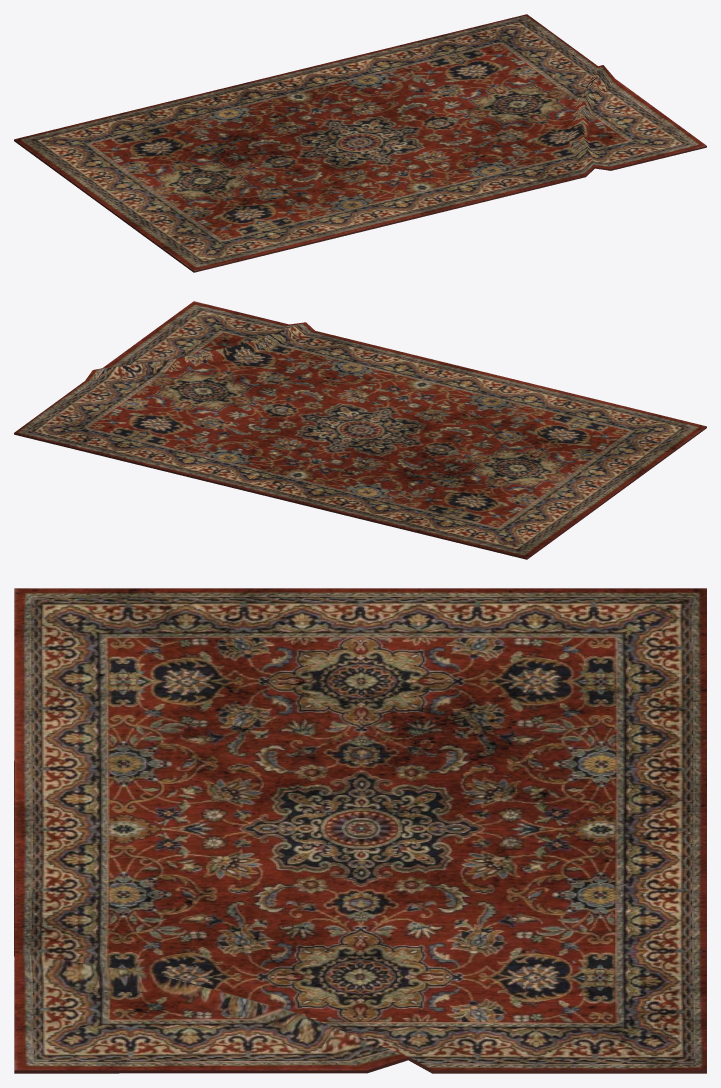
The model's file is Carpet_4.fbx.
The picture shows the model from 3 angles, top to bottom: view 1: azimuth 30°, elevation 25°; view 2: azimuth 150°, elevation 25°; view 3: azimuth 270°, elevation 25°; orthographic projection. The views are drawn at different scales.
Visible parts, largest first — view 1: Carpet_Sketchfab_SM_Carpet_04_LOD0; view 2: Carpet_Sketchfab_SM_Carpet_04_LOD0; view 3: Carpet_Sketchfab_SM_Carpet_04_LOD0.
Part boxes in pixels (box(x1,y1,x2,y2)): Carpet_Sketchfab_SM_Carpet_04_LOD0: box(14, 14, 706, 272); Carpet_Sketchfab_SM_Carpet_04_LOD0: box(14, 301, 706, 559); Carpet_Sketchfab_SM_Carpet_04_LOD0: box(14, 588, 706, 1073).
Bounding box in the file's own units: 889 × 13.42 × 540.
